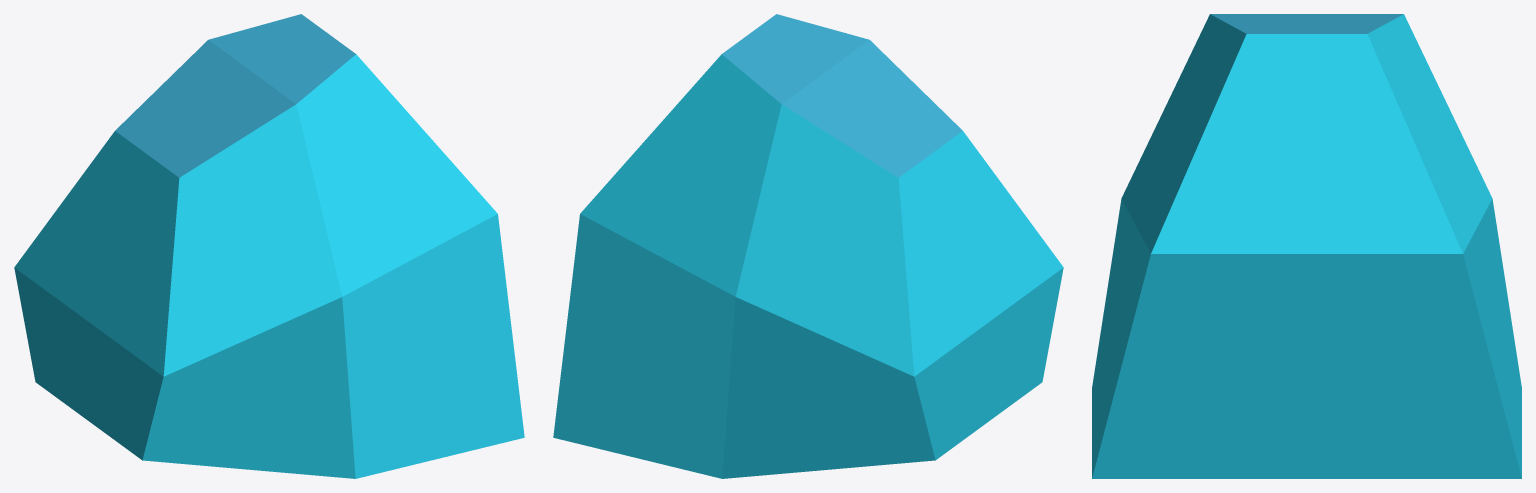
The model's file is Safir.fbx.
The picture shows the model from 3 angles, left to right: view 1: azimuth 30°, elevation 25°; view 2: azimuth 150°, elevation 25°; view 3: azimuth 270°, elevation 25°; orthographic projection. The views are drawn at different scales.
Parts seen in each view (by area): view 1: Safir_part; view 2: Safir_part; view 3: Safir_part.
Part boxes in pixels (x1,y1,x2,y2): Safir_part: (14,14,524,478); Safir_part: (553,14,1063,478); Safir_part: (1092,14,1521,478).
Size of the model in its own units: 0.3807 by 0.3832 by 0.3807.
1 material, 1 textured.
